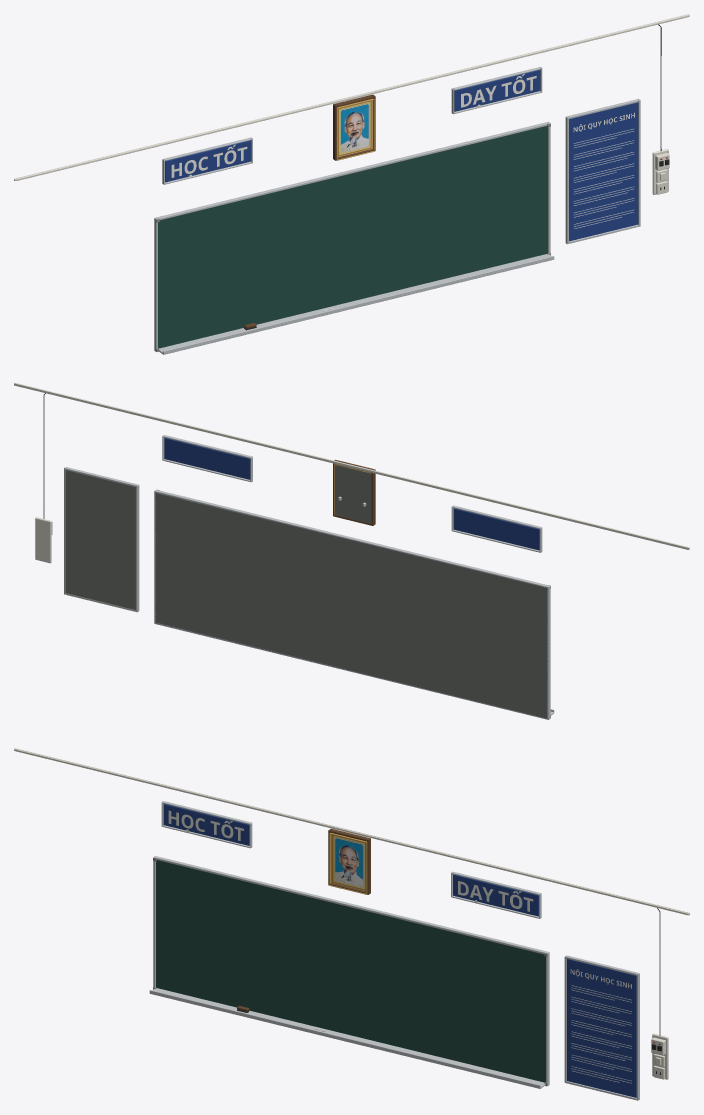
Rendered from classroom_front_wall_set.glb.
3 renders of one model, top to bottom at view 1: azimuth 30°, elevation 25°; view 2: azimuth 150°, elevation 25°; view 3: azimuth 330°, elevation 25°, orthographic.
Parts seen in each view (by area): view 1: KAClass_Board_Green_Surface, KAClass_Rules_Blue_Print_Panel, KAClass_Board_Chalk_Tray_Base, KAClass_Conduit_Cover, KAClass_HoChiMinh_Portrait_Print, KAClass_Board_Aluminium_Frame_Horizontal.001, KAClass_slogan_study_well_Blue_Panel, KAClass_slogan_teach_well_Blue_Panel, KAClass_Board_Chalk_Tray_Lip, KAClass_Conduit_Back, KAClass_slogan_teach_well_Lettering, KAClass_slogan_study_well_Lettering (+1 smaller); view 2: KAClass_Board_Backing, KAClass_Rules_Backboard, KAClass_Conduit_Back, KAClass_slogan_study_well_Blue_Panel, KAClass_slogan_teach_well_Blue_Panel, KAClass_Portrait_Backboard, KAClass_Board_Aluminium_Frame_Horizontal.001, KAClass_Board_Aluminium_Frame_Horizontal, KAClass_Electrical_Back_Plate, KAClass_Conduit_Cover, KAClass_Rules_Aluminium_Frame_Vertical, KAClass_Board_Aluminium_Frame_Vertical; view 3: KAClass_Board_Green_Surface, KAClass_Rules_Blue_Print_Panel, KAClass_Board_Chalk_Tray_Base, KAClass_Conduit_Cover, KAClass_HoChiMinh_Portrait_Print, KAClass_Board_Aluminium_Frame_Horizontal.001, KAClass_slogan_study_well_Blue_Panel, KAClass_slogan_teach_well_Blue_Panel, KAClass_Board_Chalk_Tray_Lip, KAClass_Conduit_Back, KAClass_slogan_teach_well_Lettering, KAClass_slogan_study_well_Lettering.
Part boxes in pixels (box(x1,y1,x2,y2)): KAClass_Board_Green_Surface: box(158, 126, 547, 348); KAClass_Rules_Blue_Print_Panel: box(569, 102, 638, 241); KAClass_Board_Chalk_Tray_Base: box(158, 254, 554, 354); KAClass_Conduit_Cover: box(14, 15, 689, 180); KAClass_HoChiMinh_Portrait_Print: box(337, 100, 372, 157); KAClass_Board_Aluminium_Frame_Horizontal.001: box(156, 122, 548, 220); KAClass_slogan_study_well_Blue_Panel: box(165, 140, 250, 182); KAClass_slogan_teach_well_Blue_Panel: box(454, 70, 540, 111); KAClass_Board_Chalk_Tray_Lip: box(163, 256, 554, 353); KAClass_Conduit_Back: box(14, 14, 689, 180); KAClass_slogan_teach_well_Lettering: box(461, 73, 536, 107); KAClass_slogan_study_well_Lettering: box(171, 144, 247, 177); KAClass_Board_Backing: box(155, 492, 547, 718); KAClass_Rules_Backboard: box(65, 470, 135, 609); KAClass_Conduit_Back: box(14, 383, 689, 549); KAClass_slogan_study_well_Blue_Panel: box(453, 508, 539, 550); KAClass_slogan_teach_well_Blue_Panel: box(164, 438, 250, 479); KAClass_Portrait_Backboard: box(335, 464, 371, 523); KAClass_Board_Aluminium_Frame_Horizontal.001: box(156, 490, 547, 587); KAClass_Board_Aluminium_Frame_Horizontal: box(156, 623, 546, 719); KAClass_Electrical_Back_Plate: box(35, 517, 51, 563); KAClass_Conduit_Cover: box(15, 383, 689, 548); KAClass_Rules_Aluminium_Frame_Vertical: box(135, 484, 139, 612); KAClass_Board_Aluminium_Frame_Vertical: box(546, 585, 550, 719); KAClass_Board_Green_Surface: box(156, 860, 545, 1082); KAClass_Rules_Blue_Print_Panel: box(567, 959, 636, 1097); KAClass_Board_Chalk_Tray_Base: box(149, 988, 545, 1088); KAClass_Conduit_Cover: box(14, 749, 689, 915); KAClass_HoChiMinh_Portrait_Print: box(331, 834, 366, 891); KAClass_Board_Aluminium_Frame_Horizontal.001: box(156, 856, 547, 954); KAClass_slogan_study_well_Blue_Panel: box(163, 804, 249, 845); KAClass_slogan_teach_well_Blue_Panel: box(453, 874, 538, 916); KAClass_Board_Chalk_Tray_Lip: box(149, 990, 540, 1088); KAClass_Conduit_Back: box(14, 748, 689, 914); KAClass_slogan_teach_well_Lettering: box(458, 881, 533, 911); KAClass_slogan_study_well_Lettering: box(168, 810, 243, 840).
Size of the model in its own units: 7.7 by 2.25 by 0.15.
Materials: 28 (1 with a texture image).
